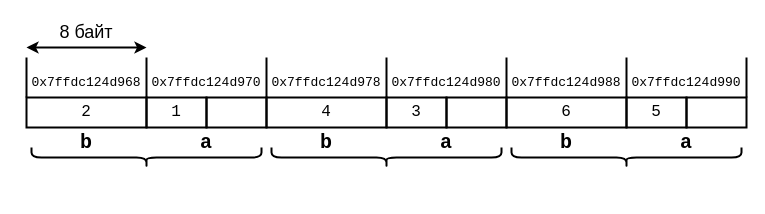
Image size: 765x214. Some labels were removed from this diagram. The shapes that lost their labels are listed below. From the top down, each one's box as (x1, y1, x2, y2) in pixels, then its label:
(30, 146, 262, 168): arr[0]
(270, 146, 502, 168): arr[1]
(510, 146, 742, 168): arr[2]
